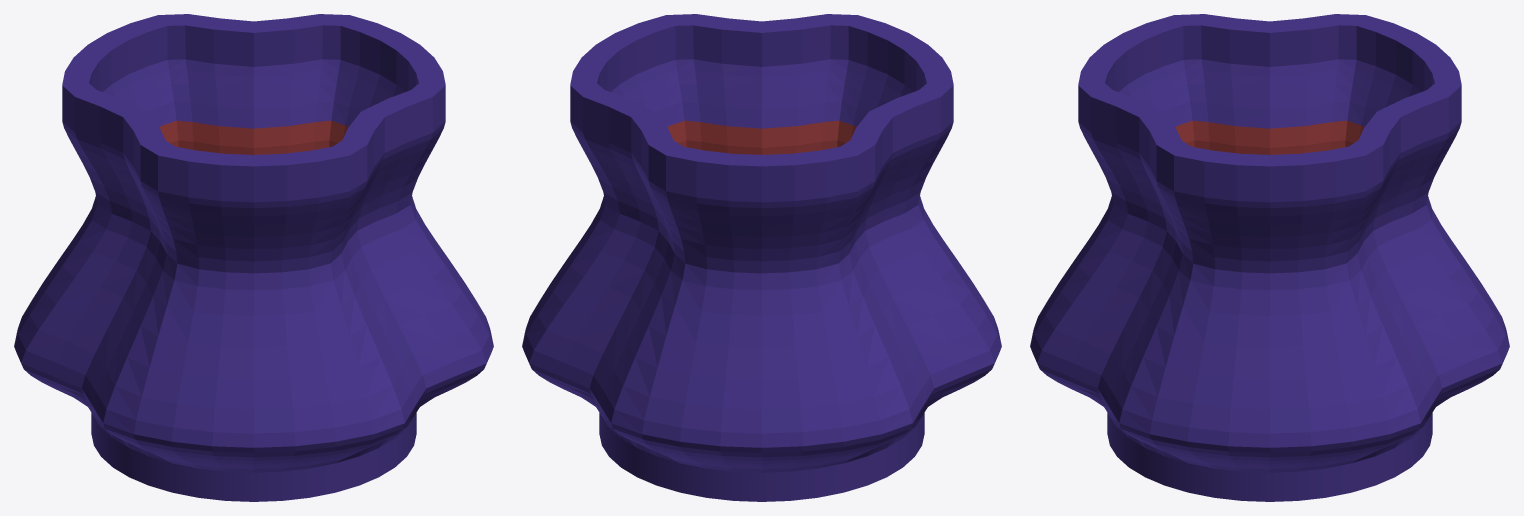
Rendered from vaza.FBX.
3 renders of one model, left to right at view 1: azimuth 30°, elevation 25°; view 2: azimuth 150°, elevation 25°; view 3: azimuth 270°, elevation 25°, orthographic.
Parts seen in each view (by area): view 1: Object002, Line002; view 2: Object002, Line002; view 3: Object002, Line002.
Part boxes in pixels (left/top/right/bottom): Object002: left=14, top=14, right=493, bottom=501; Line002: left=159, top=120, right=348, bottom=154; Object002: left=522, top=14, right=1001, bottom=501; Line002: left=667, top=120, right=856, bottom=154; Object002: left=1030, top=14, right=1509, bottom=501; Line002: left=1175, top=120, right=1364, bottom=154.
Size of the model in its own units: 14.43 by 12 by 15.
